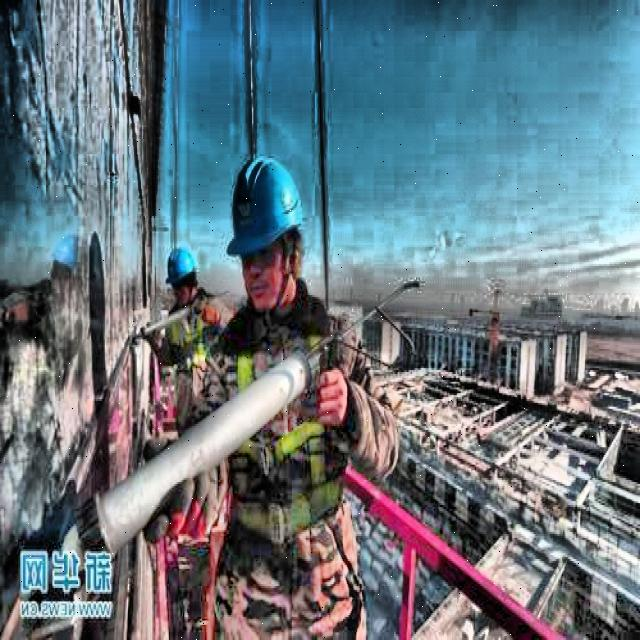helmet: (221, 146, 301, 326), (164, 237, 201, 305)
